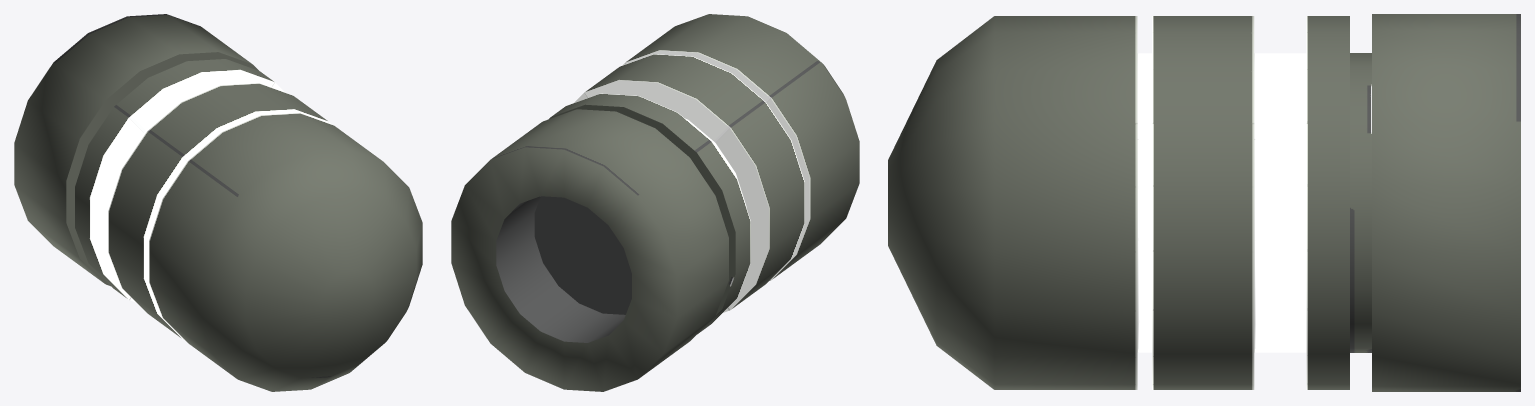
The model's file is fbxRMORBigMissile.fbx.
3 renders of one model, left to right at view 1: azimuth 30°, elevation 25°; view 2: azimuth 150°, elevation 25°; view 3: azimuth 270°, elevation 25°, orthographic. The views are drawn at different scales.
Visible parts, largest first — view 1: ColoredMissile; view 2: ColoredMissile; view 3: ColoredMissile.
Part boxes in pixels (bbox=[...]): ColoredMissile: bbox=[14, 14, 422, 391]; ColoredMissile: bbox=[451, 14, 859, 391]; ColoredMissile: bbox=[888, 14, 1520, 391].
Size of the model in its own units: 0.5769 by 0.5858 by 0.977.
